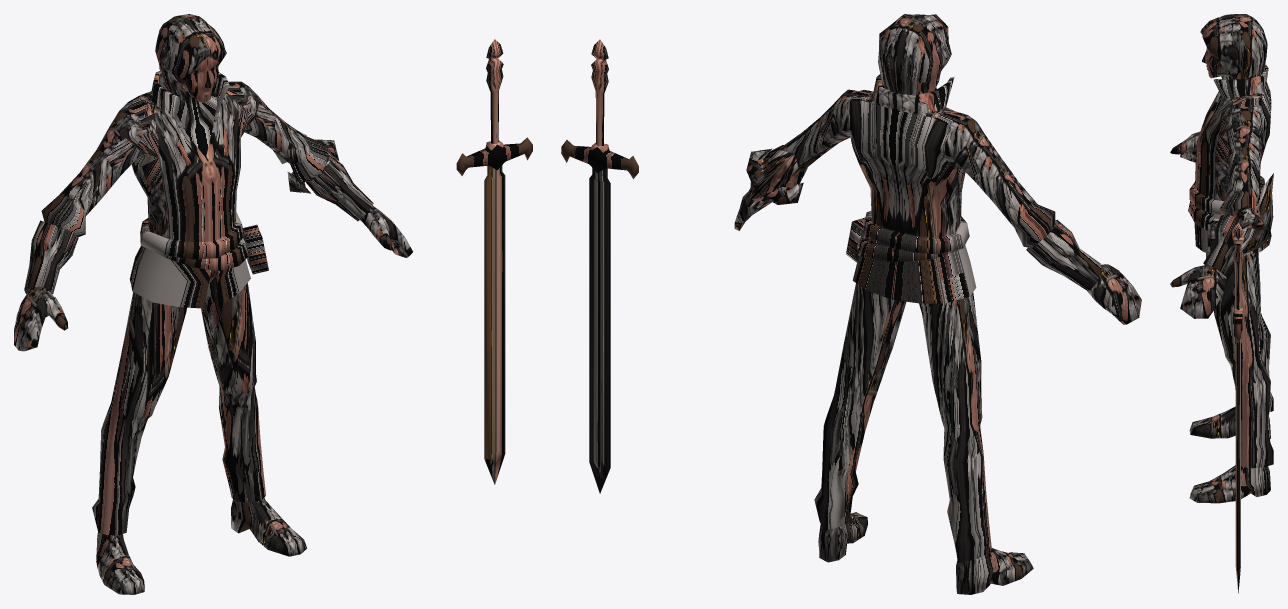
3 renders of one model, left to right at view 1: azimuth 30°, elevation 25°; view 2: azimuth 150°, elevation 25°; view 3: azimuth 270°, elevation 25°, orthographic. The views are drawn at different scales.
Visible parts, largest first — view 1: low; view 2: low; view 3: low.
Part boxes in pixels (x1,y1,x2,y2): low: [14, 14, 532, 594]; low: [561, 14, 1141, 594]; low: [1170, 14, 1273, 593].
Size of the model in its own units: 1.99 by 1.91 by 0.3956.
1 material, 1 textured.
